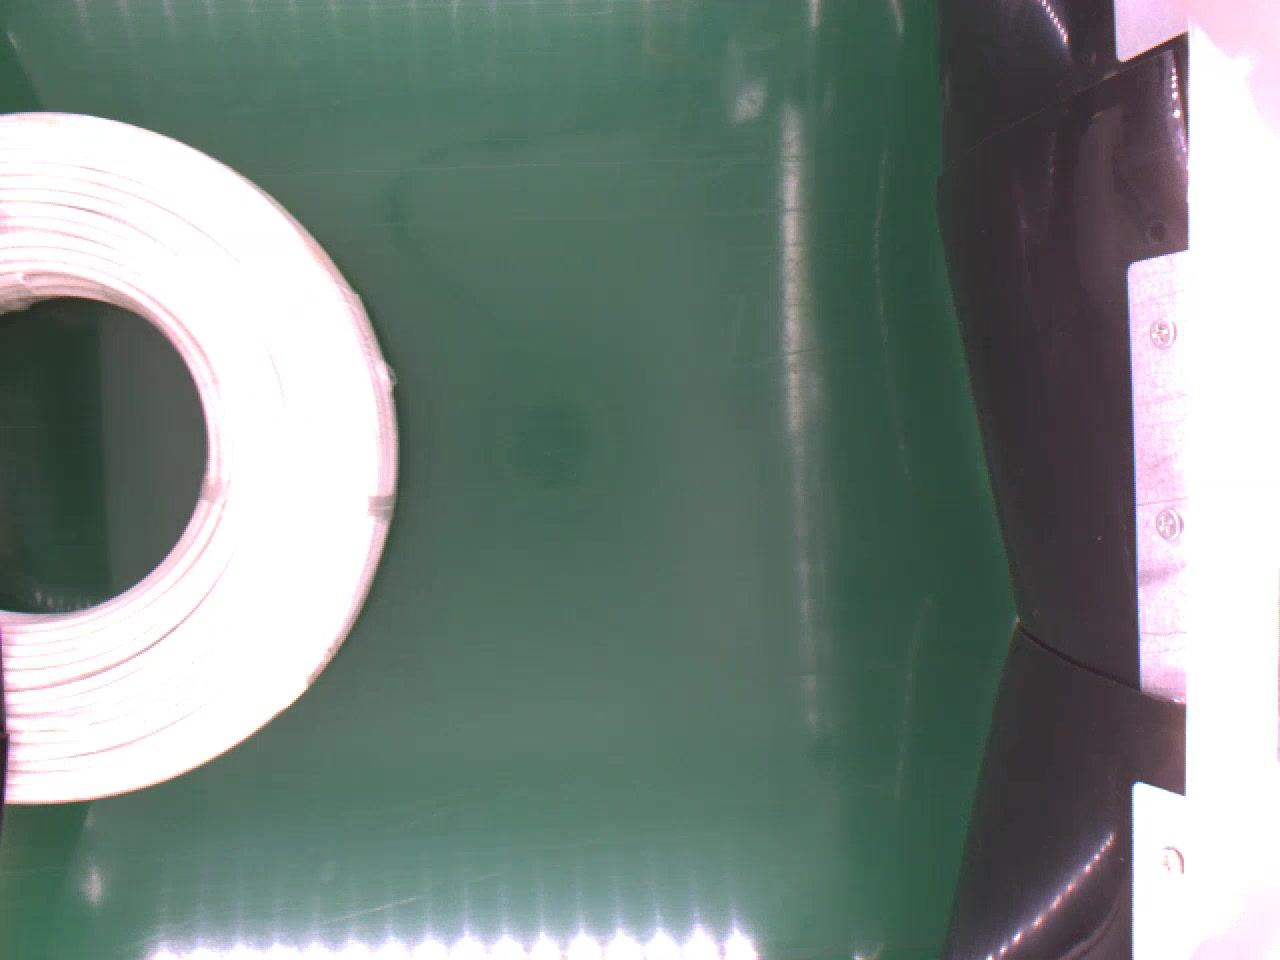white: (0, 110, 402, 805)
